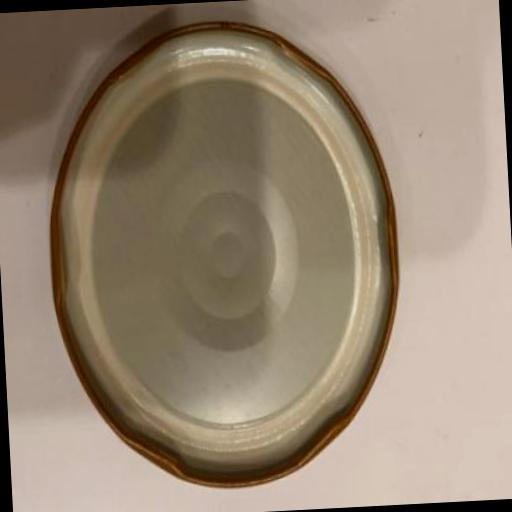metal: (38, 13, 411, 498)
